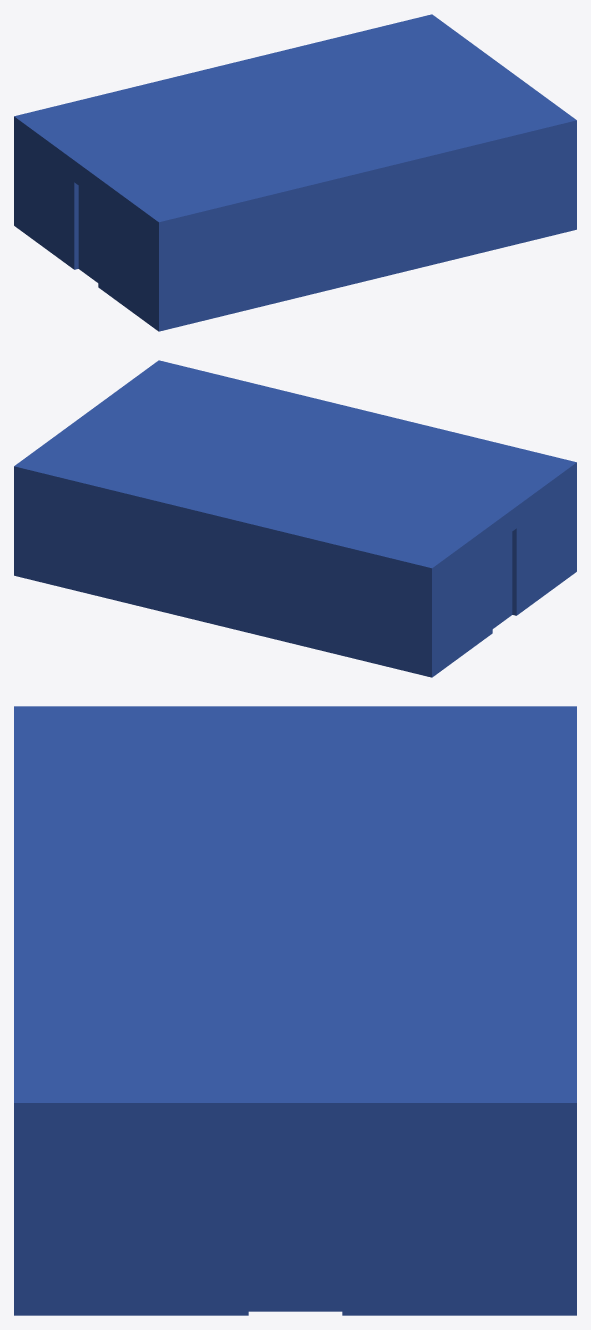
The model's file is 06x04_inner.dae.
3 views of the same model, one above another, from view 1: azimuth 30°, elevation 25°; view 2: azimuth 150°, elevation 25°; view 3: azimuth 270°, elevation 25° (orthographic). The views are drawn at different scales.
Visible parts, largest first — view 1: 10x6_inner - Mesh 2; view 2: 10x6_inner - Mesh 2; view 3: 10x6_inner - Mesh 2.
Part boxes in pixels (x1=…): 10x6_inner - Mesh 2: x1=14, y1=14, x2=576, y2=331; 10x6_inner - Mesh 2: x1=14, y1=360, x2=576, y2=677; 10x6_inner - Mesh 2: x1=14, y1=706, x2=576, y2=1315.
Size of the model in its own units: 0.67 by 0.402 by 0.1675.
